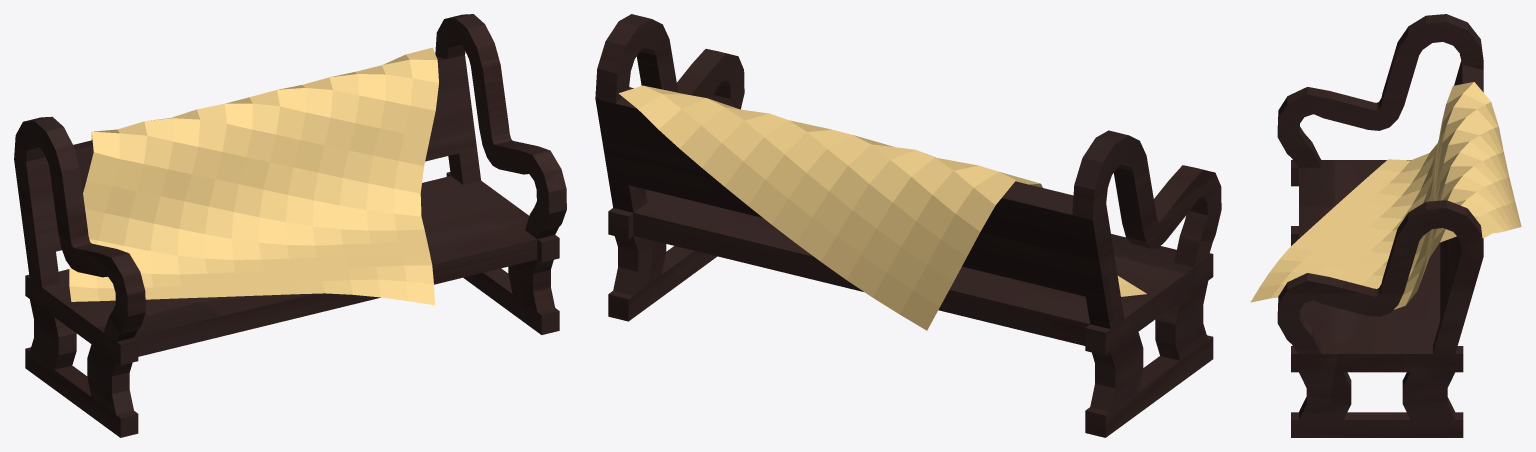
Rendered from Bench1.fbx.
The picture shows the model from 3 angles, left to right: view 1: azimuth 30°, elevation 25°; view 2: azimuth 150°, elevation 25°; view 3: azimuth 270°, elevation 25°; orthographic projection. The views are drawn at different scales.
Visible parts, largest first — view 1: Plane, Cube; view 2: Cube, Plane; view 3: Cube, Plane.
Boxes of the visible parts, bbox=[...] form: Plane: bbox=[69, 47, 438, 305]; Cube: bbox=[14, 14, 566, 437]; Cube: bbox=[595, 14, 1221, 437]; Plane: bbox=[619, 85, 1146, 330]; Cube: bbox=[1277, 14, 1483, 437]; Plane: bbox=[1250, 82, 1521, 309].
Bounding box in the file's own units: 587 × 324 × 347.
2 materials, 1 textured.
